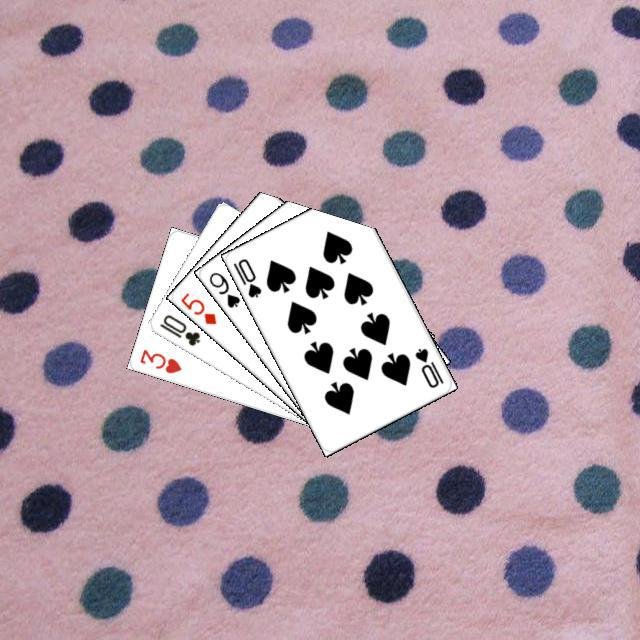10c: (155, 309, 202, 348)
10s: (410, 343, 445, 390), (228, 254, 263, 300)
3h: (135, 344, 183, 375)
5d: (176, 288, 218, 326)
9s: (204, 267, 242, 310)
